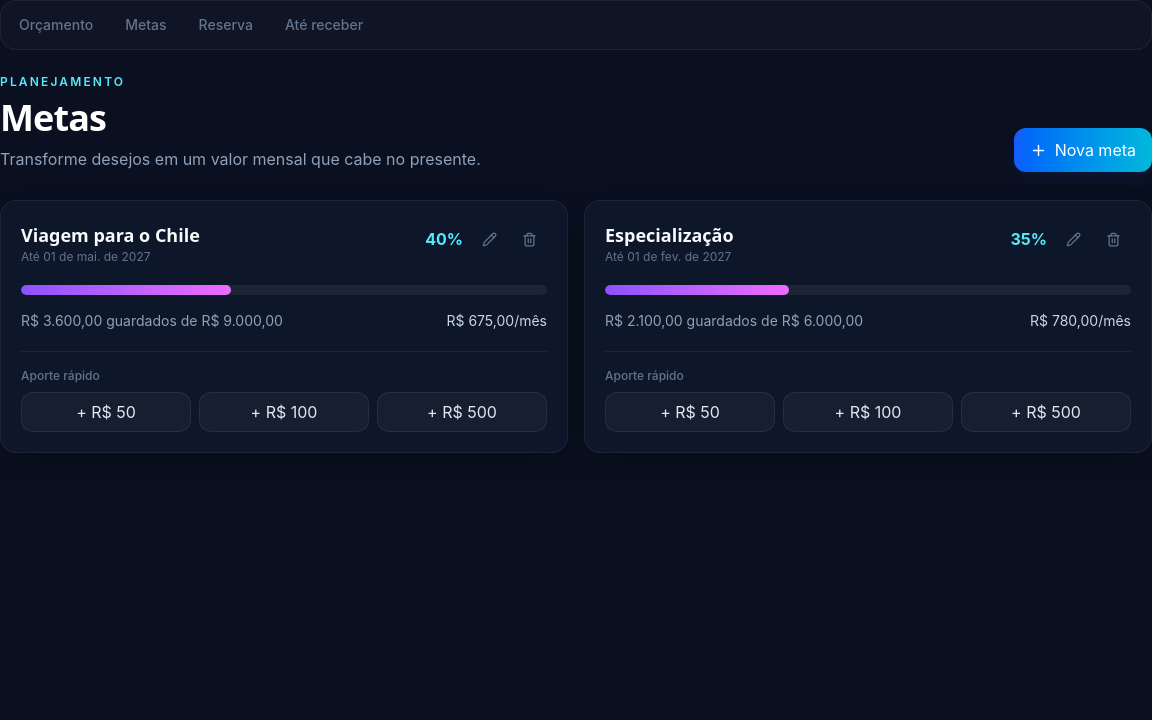
Test: edits and deletes a goal
Click the button named "editar viagem para o chile" at (489,239), box [471,221,507,257]
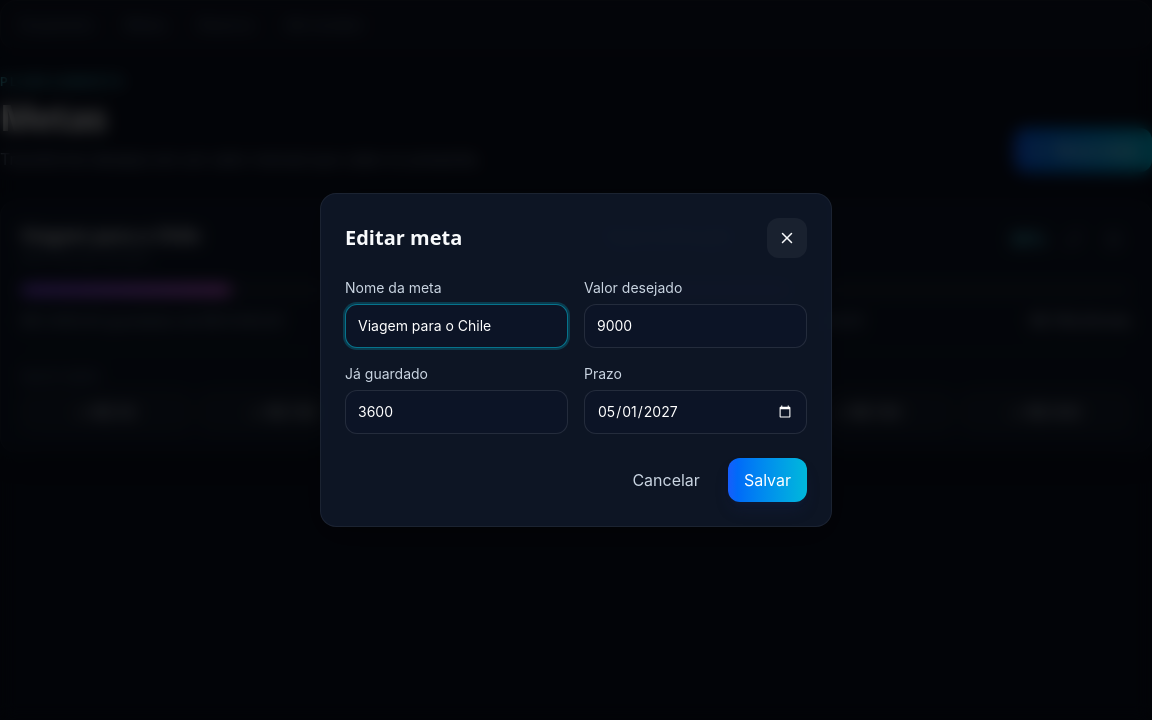
Replace the text in the field labelled "Nome da meta" with "Viagem dos sonhos" at (456,326), box [345,304,568,348]
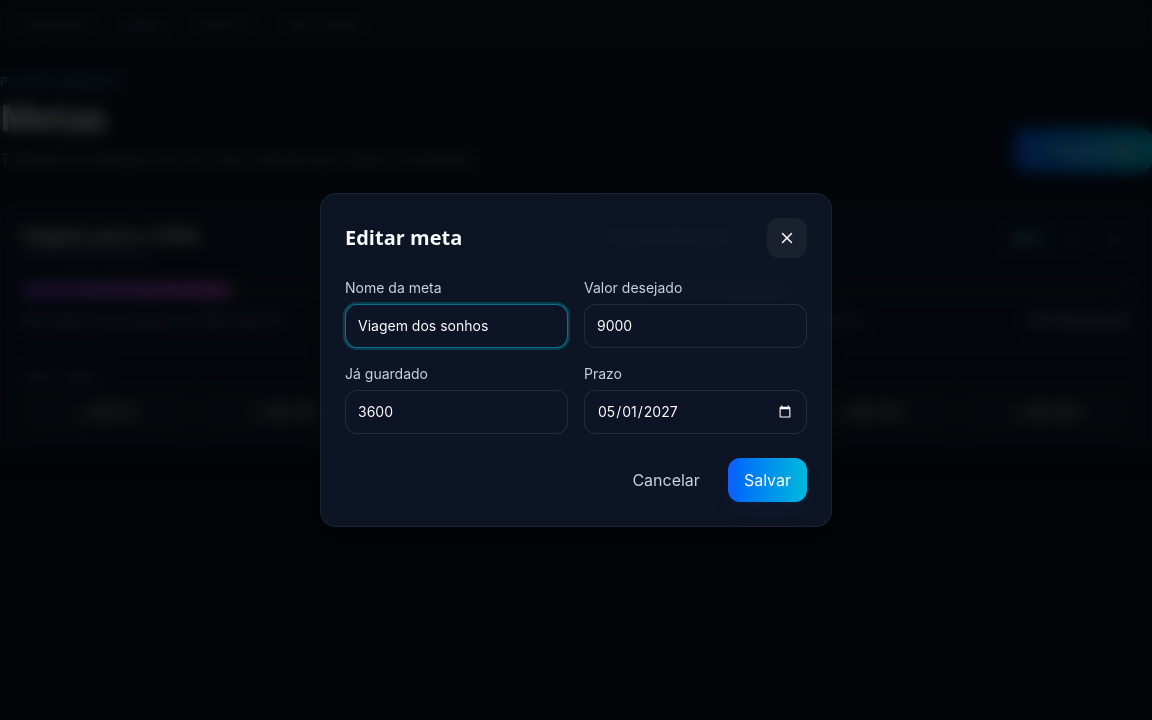
Click the button "Salvar" at (767,480), box [728,458,807,502]
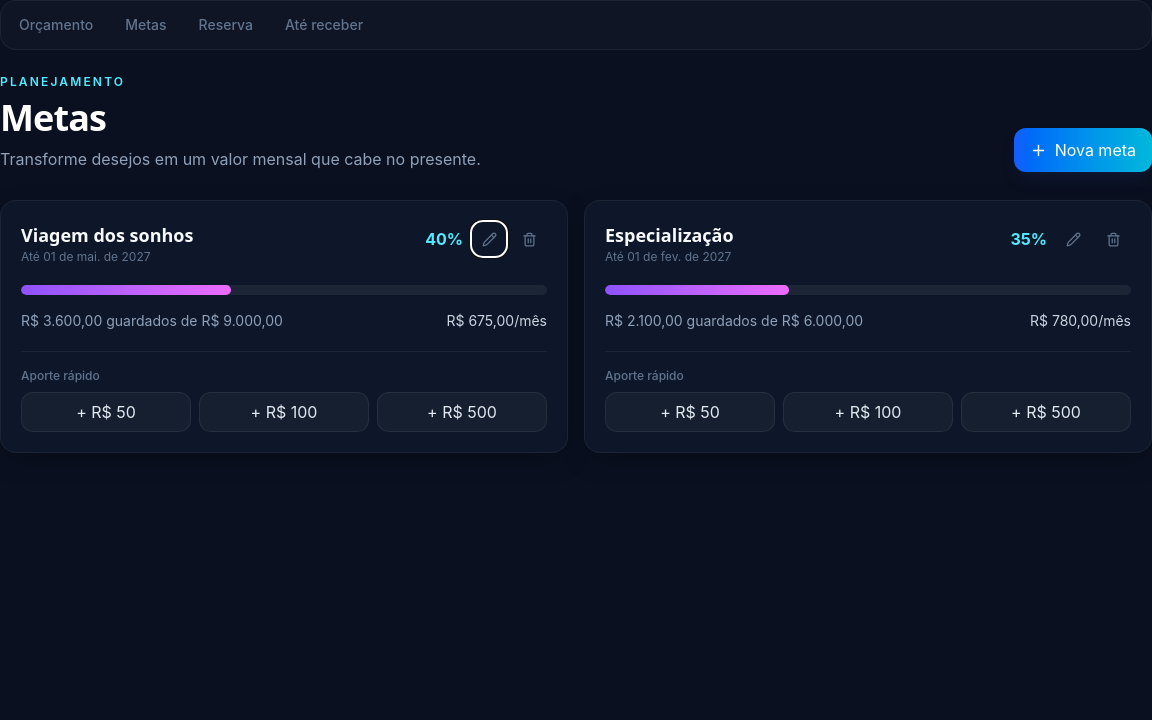
Expected: the element named "meta viagem dos sonhos" is shown, [0,200,568,453]
Click the button named "excluir viagem dos sonhos" at (529,239), box [511,221,547,257]
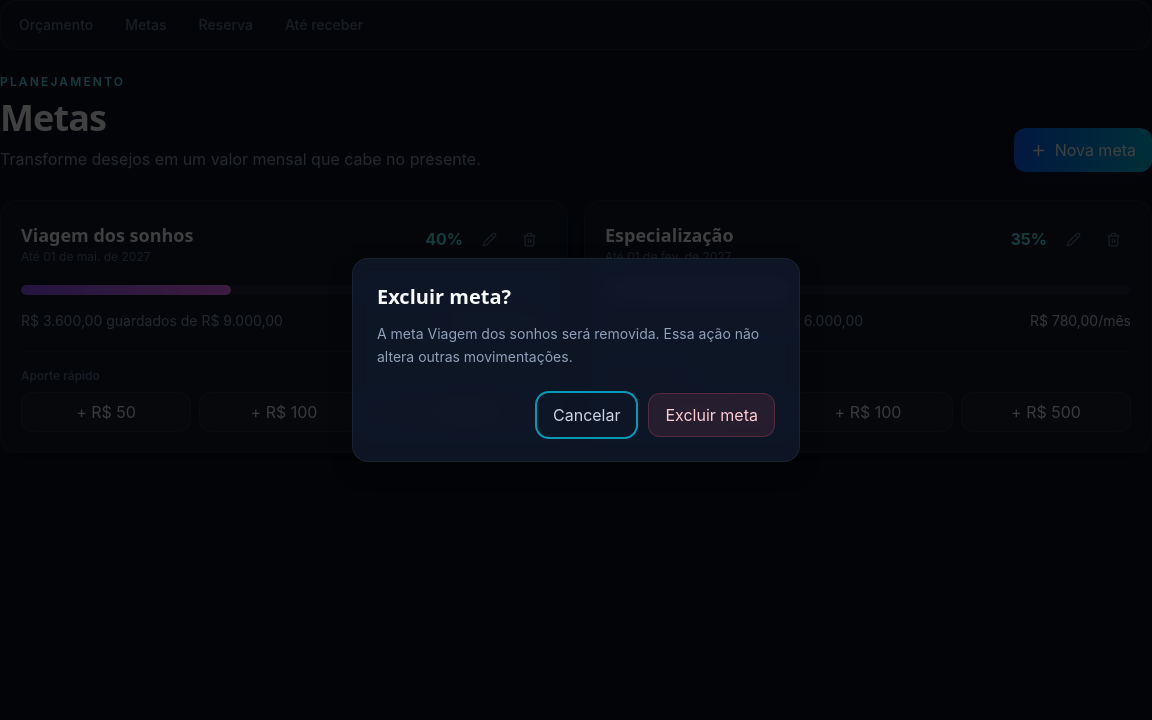
Expected: the dialog "Excluir meta?" is shown, [352,258,800,462]
Click the button "Excluir meta" at (712,415), box [648,393,775,437]
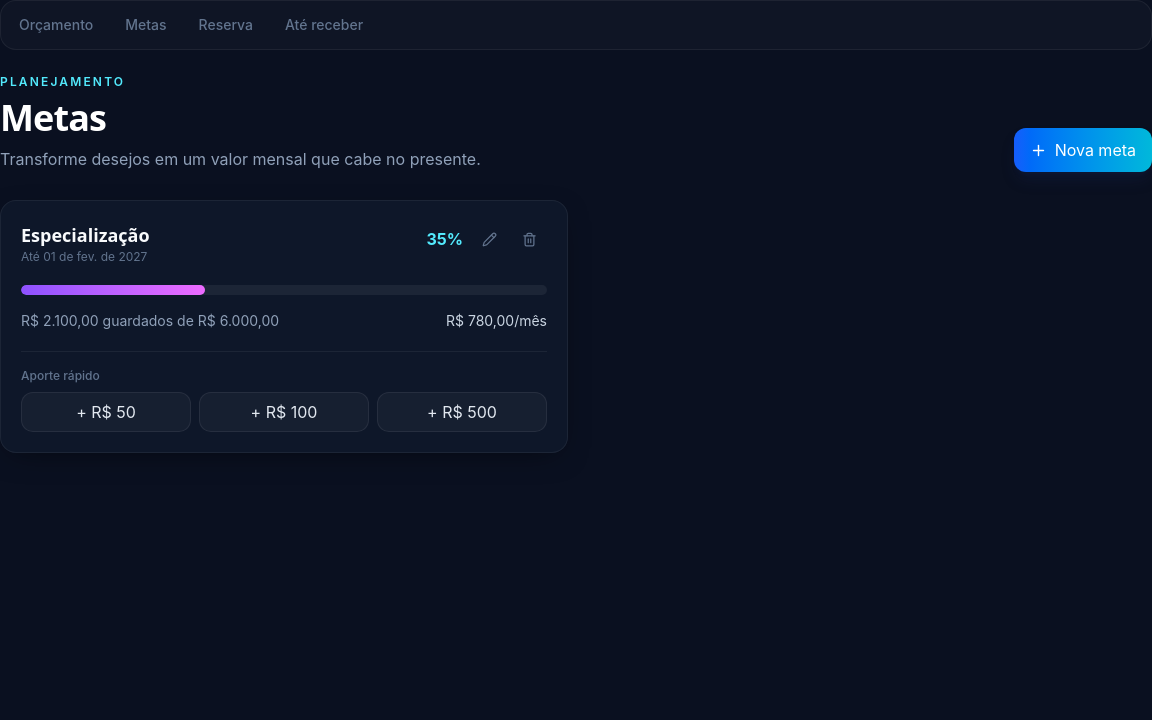
Expected: the text "meta Viagem dos sonhos" is gone
